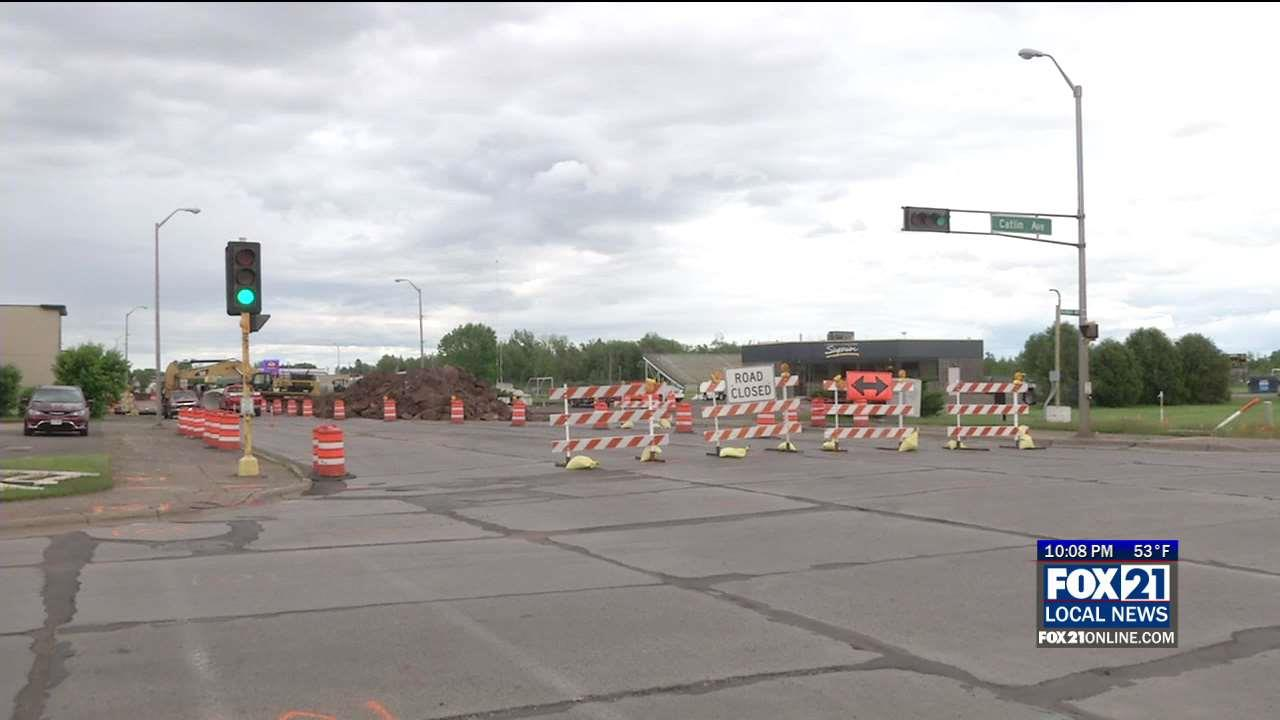traffic_light: (224, 239, 264, 317)
